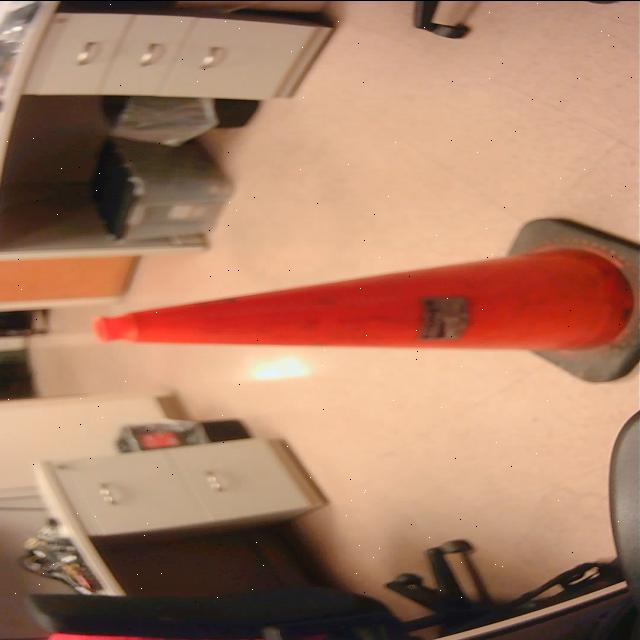traffic cone: (85, 215, 640, 389)
